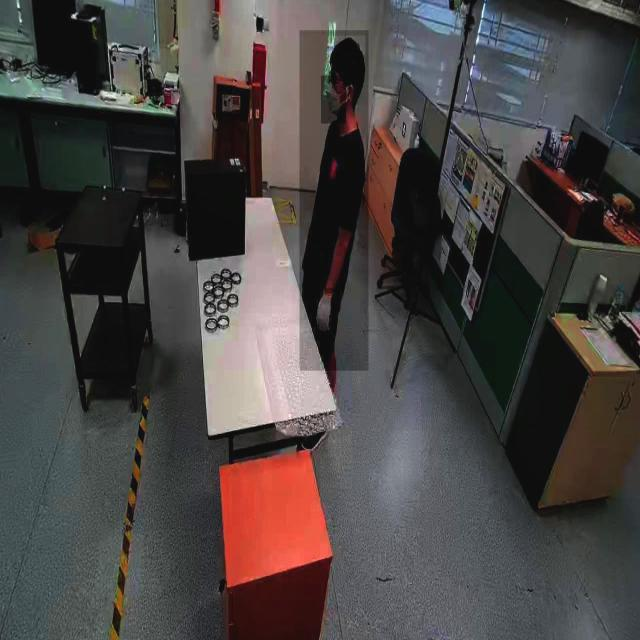face_mask: (321, 75, 346, 124)
hand_glove: (314, 288, 334, 337)
head_nohelmet: (329, 36, 366, 68)
person: (299, 30, 369, 372)
